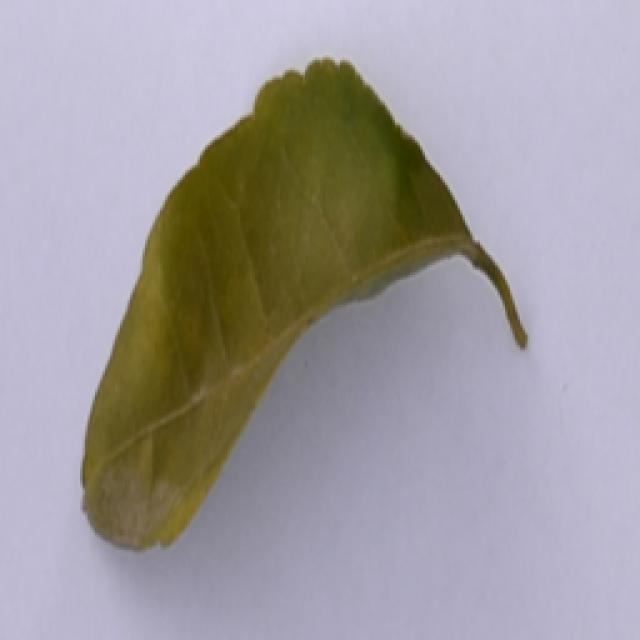greening: (77, 54, 540, 582)
